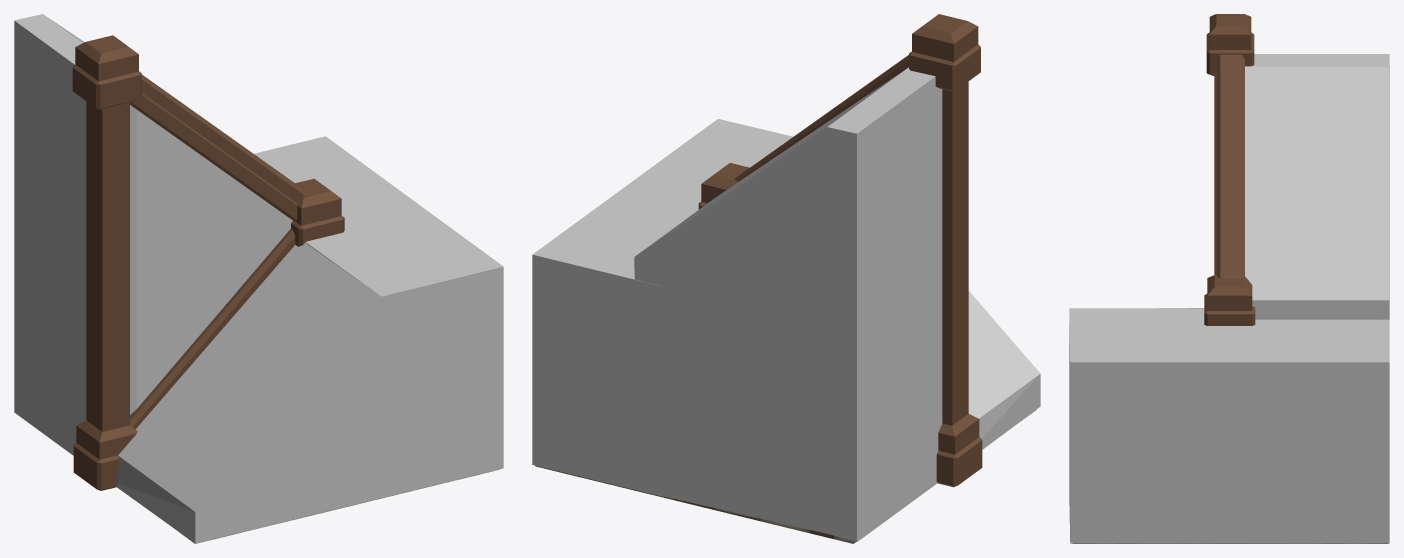
The model's file is SM_Bld_Stairs_Corner_01.fbx.
3 views of the same model, side by side, from view 1: azimuth 30°, elevation 25°; view 2: azimuth 150°, elevation 25°; view 3: azimuth 270°, elevation 25° (orthographic). The views are drawn at different scales.
Visible parts, largest first — view 1: SM_Bld_Stairs_Corner_01_ConvexHulls, SM_Bld_Stairs_Corner_01; view 2: SM_Bld_Stairs_Corner_01_ConvexHulls, SM_Bld_Stairs_Corner_01; view 3: SM_Bld_Stairs_Corner_01_ConvexHulls, SM_Bld_Stairs_Corner_01.
Boxes of the visible parts, box(x1,y1,x2,y2) form: SM_Bld_Stairs_Corner_01_ConvexHulls: box(14, 14, 503, 543); SM_Bld_Stairs_Corner_01: box(72, 35, 499, 543); SM_Bld_Stairs_Corner_01_ConvexHulls: box(532, 67, 1040, 541); SM_Bld_Stairs_Corner_01: box(535, 14, 1035, 543); SM_Bld_Stairs_Corner_01_ConvexHulls: box(1069, 54, 1389, 543); SM_Bld_Stairs_Corner_01: box(1073, 14, 1387, 543).
Bounding box in the file's own units: 271 × 254 × 341.
4 materials, 3 textured.
